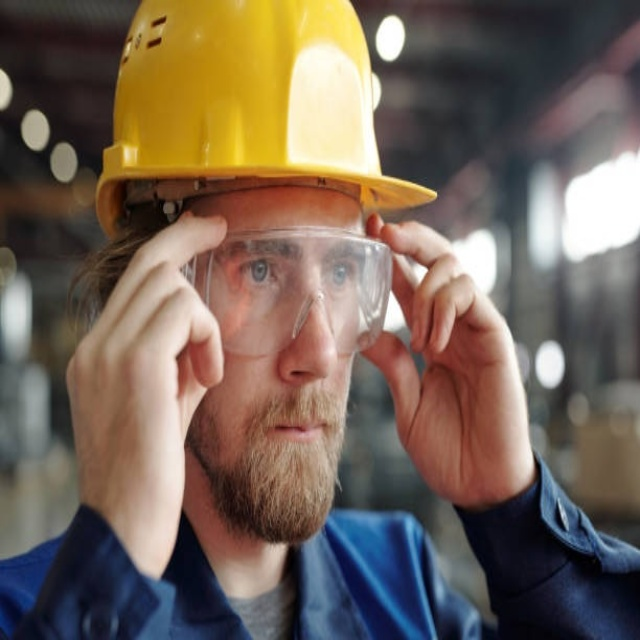Gafas: (230, 223, 393, 365)
Sin_guantes: (67, 205, 231, 561), (348, 211, 531, 509)
Sin_mascara: (246, 398, 340, 515)
